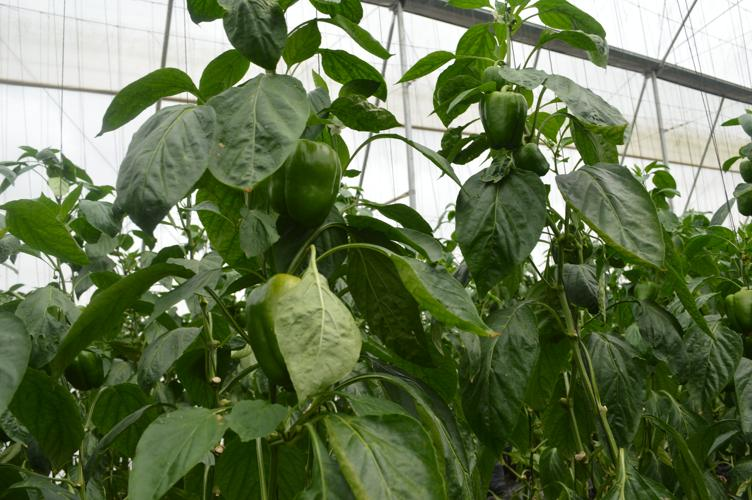BellPepper: (242, 271, 328, 402), (259, 137, 341, 231), (470, 89, 525, 150), (706, 270, 752, 337), (64, 351, 106, 393), (624, 276, 668, 312), (515, 136, 549, 180)
